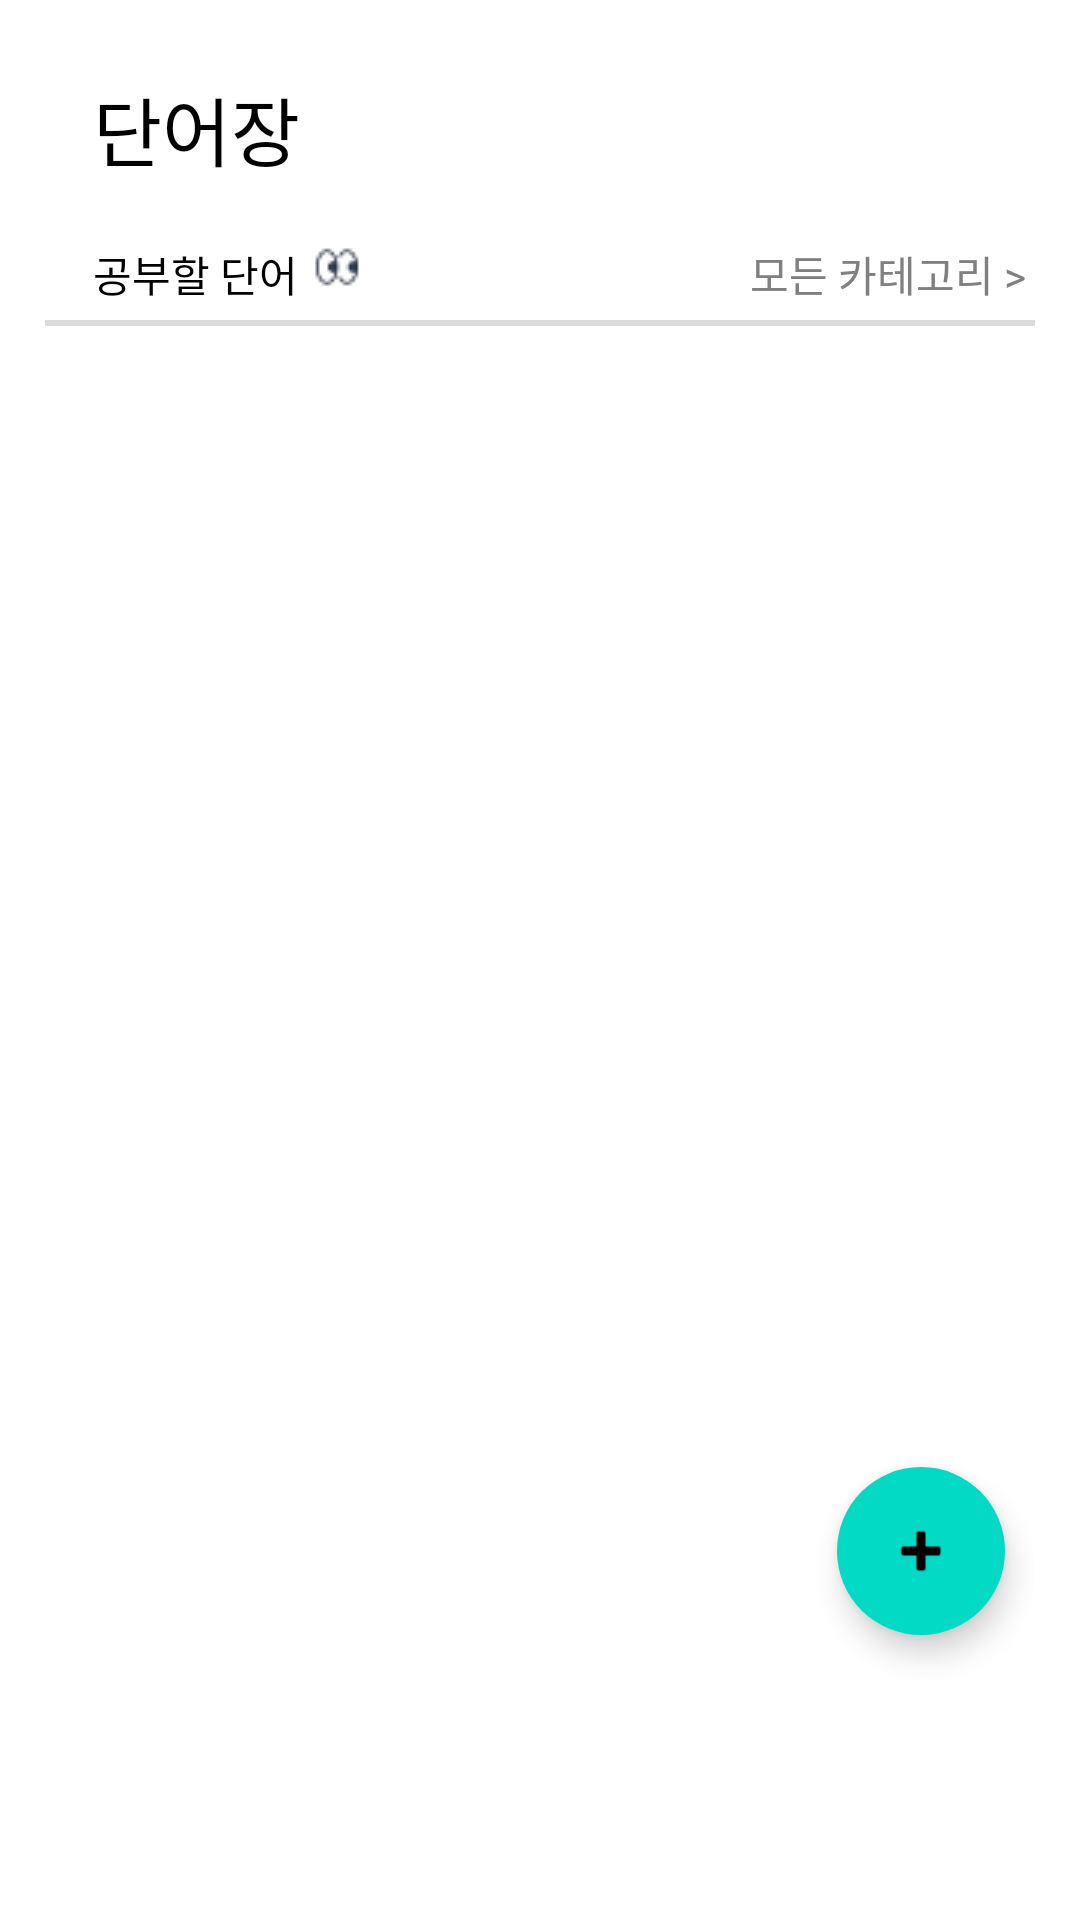

Icons on this 1080*1920 Android screen, each with the point to tap as (x=x, y=y):
add: (x=921, y=1551)
eye: (x=337, y=267)
